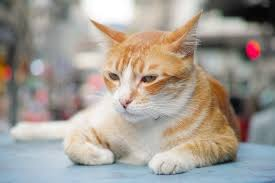cat: (73, 12, 225, 122)
